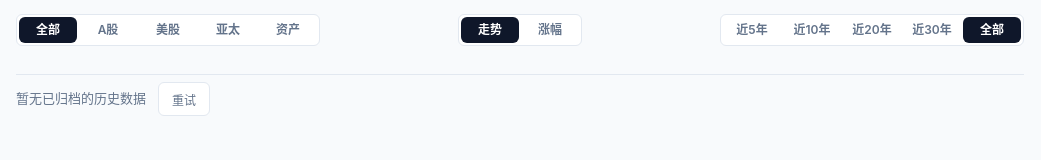
Test: long-term history page › keeps missing archives and source errors explicit rather than showing zero prices
Expected: the text "暂无已归档的历史数据" is shown, x1=16 y1=90 x2=146 y2=106
Click the button "重试" at (184, 99), box x1=158 y1=82 x2=210 y2=116
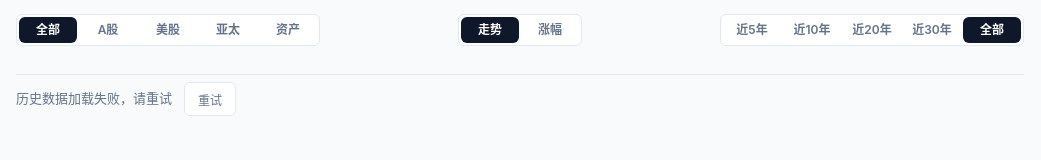
Expected: the text "历史数据加载失败，请重试" is shown, x1=16 y1=90 x2=172 y2=106
